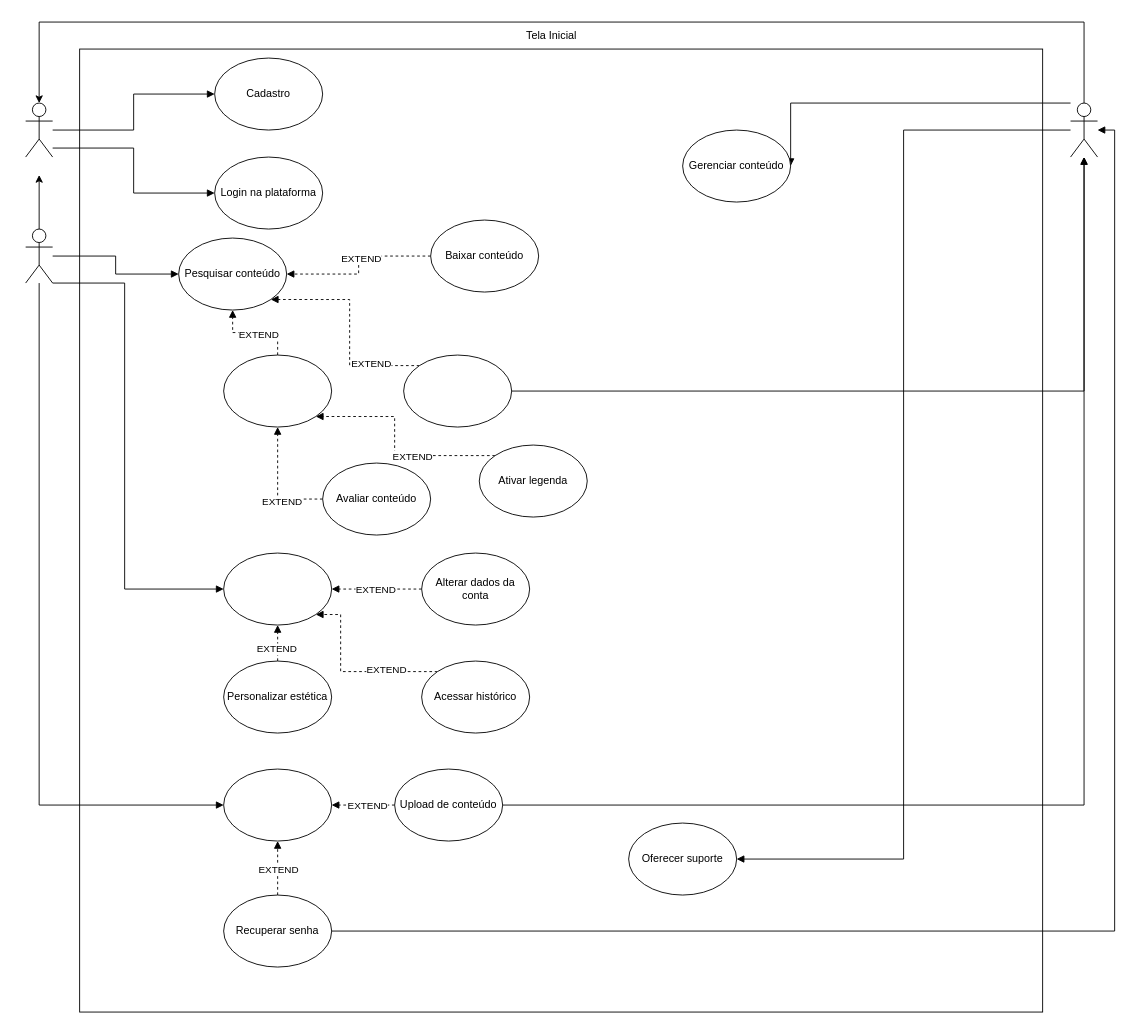
This 1138x1028 diagram has some shape labels left out. Here are the shapes that lost their labels. From the top down, the centre of each, then its label:
(x=39, y=129): Usuário
(x=1084, y=129): Administrador
(x=39, y=255): Assinante
(x=277, y=390): Reproduzir conteúdo
(x=457, y=390): Reportar conteúdo
(x=277, y=588): Gerenciar configurações
(x=277, y=804): Acessar suporte
